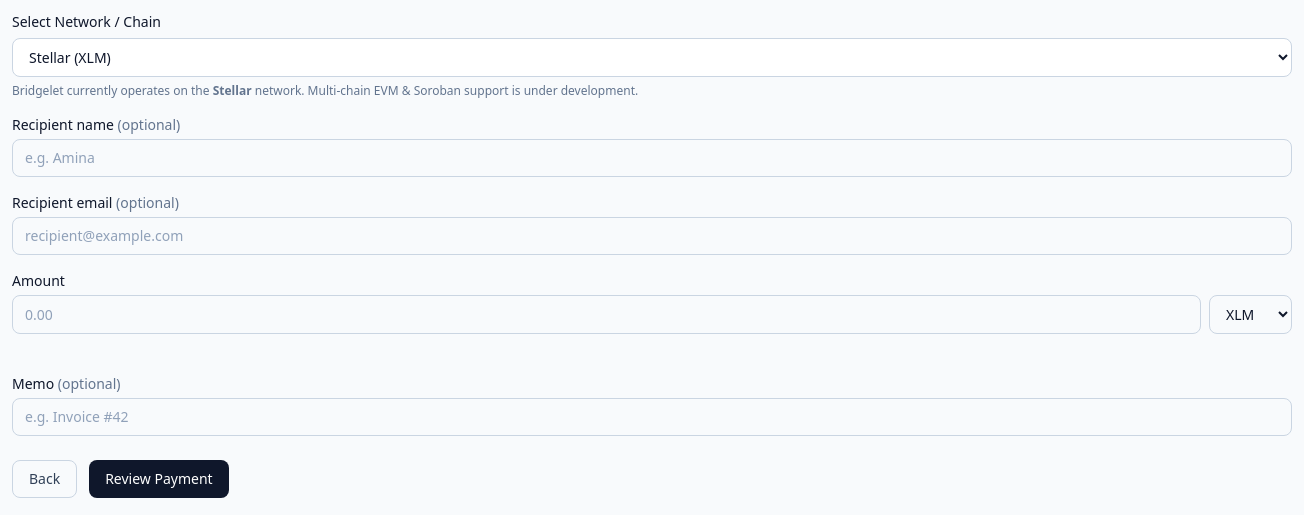
DetailsStep › hides the conversion when the asset is USDC
This screenshot has width=1304, height=515.
Type "10" into the number field labelled "Amount" at point(606, 314), box [12,295,1201,334]
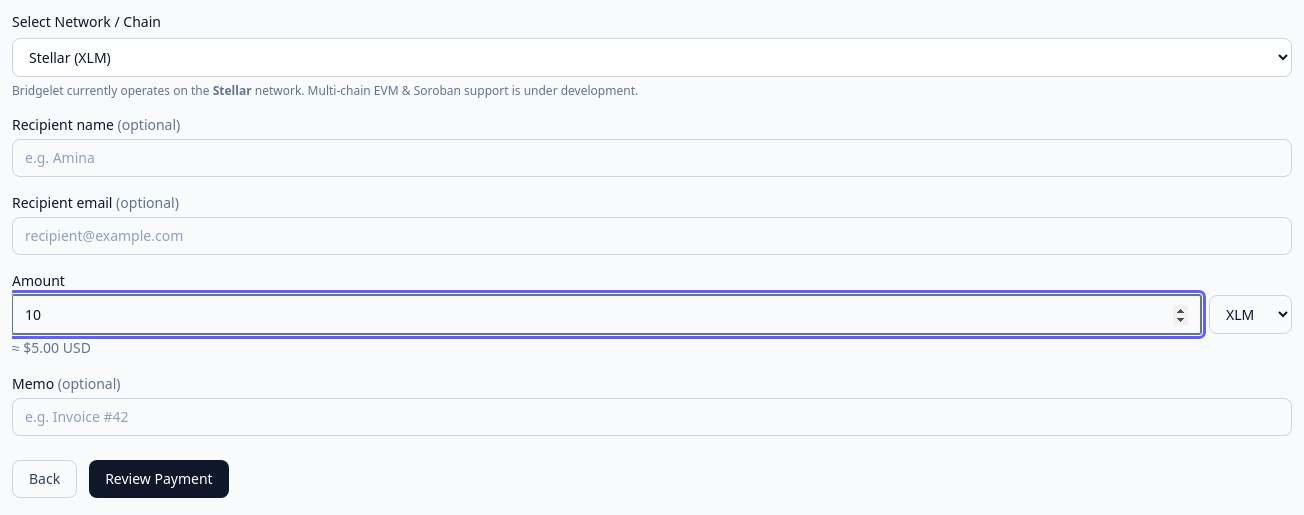
Result: the text "≈ $5.00 USD" is shown at [12,337,275,357]
Select "USDC" in the dropdown named "asset" at point(1250, 314), box [1209,295,1292,334]
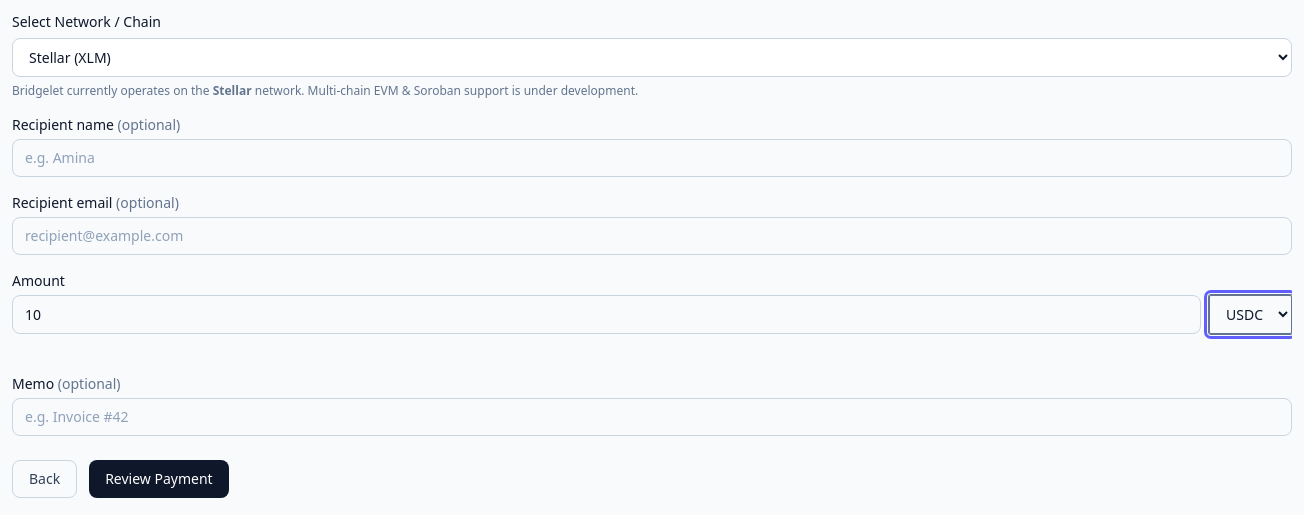
Result: the text "$5.00" is gone
